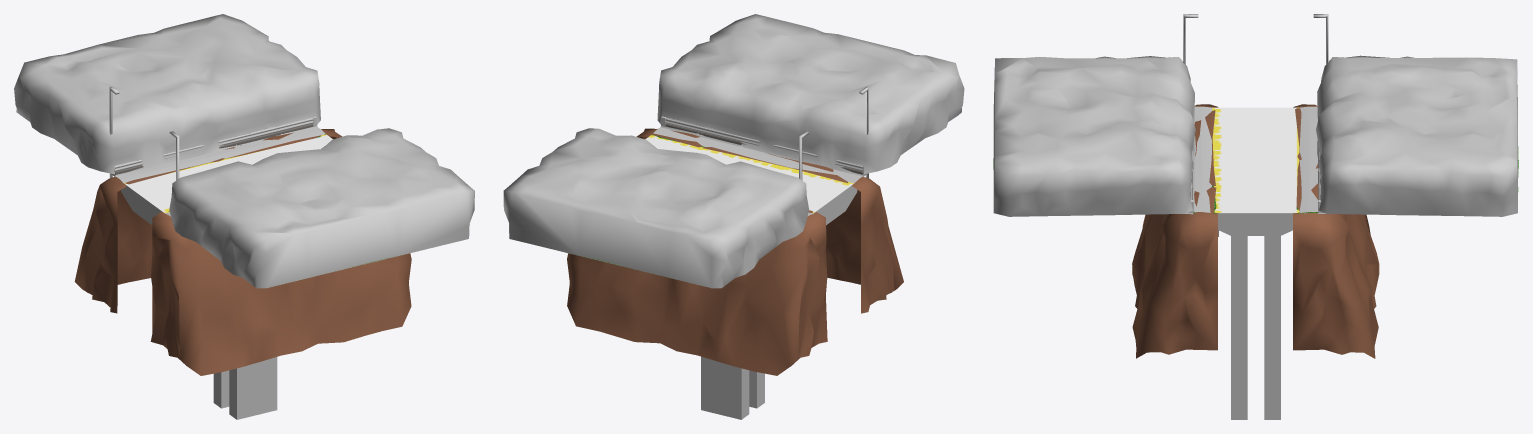
Rendered from RoadStraight_LOD1.fbx.
3 renders of one model, left to right at view 1: azimuth 30°, elevation 25°; view 2: azimuth 150°, elevation 25°; view 3: azimuth 270°, elevation 25°, orthographic. The views are drawn at different scales.
Visible parts, largest first — view 1: MountainRight, MountainLeft, CliffRight, CliffLeft, Road, Road Mask, PianoLeft, RailGuardLeft, ConcreteWallLeft; view 2: MountainLeft, MountainRight, CliffLeft, CliffRight, Road, Road Mask, PianoRight, RailGuardRight; view 3: MountainRight, MountainLeft, CliffRight, CliffLeft, Road Mask, Road, PianoLeft, PianoRight.
Boxes of the visible parts, x1,y1,x2,y2 form: MountainRight: (169, 128, 474, 288); MountainLeft: (14, 14, 320, 176); CliffRight: (150, 211, 411, 375); CliffLeft: (74, 129, 342, 313); Road: (121, 182, 277, 419); Road Mask: (124, 134, 332, 213); PianoLeft: (116, 127, 325, 183); RailGuardLeft: (114, 118, 313, 171); ConcreteWallLeft: (114, 123, 313, 175); MountainLeft: (503, 128, 808, 288); MountainRight: (657, 14, 964, 176); CliffLeft: (567, 210, 827, 375); CliffRight: (636, 128, 903, 313); Road: (701, 185, 857, 419); Road Mask: (645, 135, 853, 213); PianoRight: (653, 127, 862, 183); RailGuardRight: (665, 118, 863, 171); MountainRight: (993, 56, 1195, 216); MountainLeft: (1316, 55, 1517, 216); CliffRight: (1132, 104, 1218, 358); CliffLeft: (1293, 104, 1379, 358); Road Mask: (1212, 107, 1299, 212); Road: (1218, 213, 1305, 419); PianoLeft: (1299, 106, 1318, 212); PianoRight: (1193, 106, 1212, 212).
Size of what is drawn, in the model's own units: 599 by 755 by 1052.
